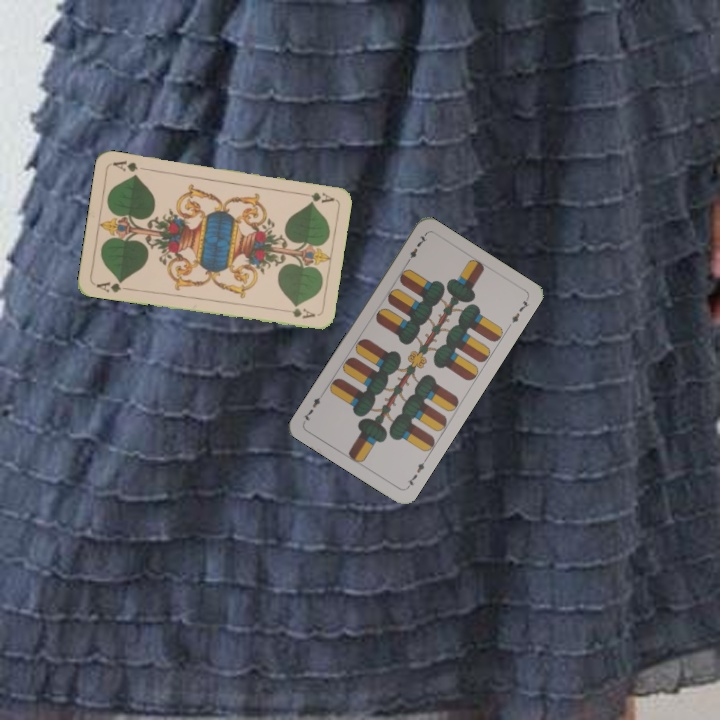E7: (402, 230, 430, 267), (403, 454, 430, 491)
GA: (92, 277, 132, 295), (296, 188, 336, 205)
